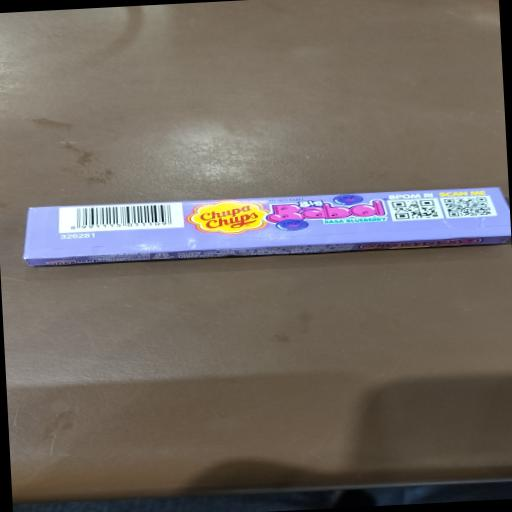chocolate: (23, 180, 512, 271)
chupa-chups: (182, 198, 272, 240)
